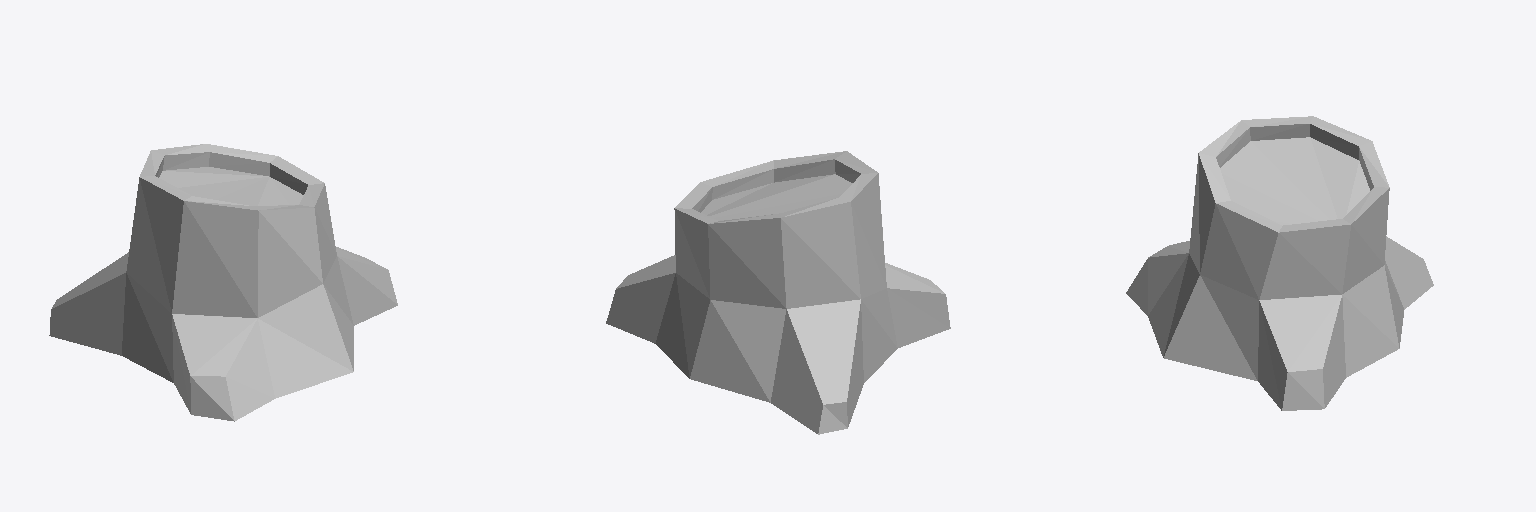
The model's file is stump5.obj.
3 renders of one model, left to right at view 1: azimuth 30°, elevation 25°; view 2: azimuth 150°, elevation 25°; view 3: azimuth 270°, elevation 25°, orthographic.
Visible parts, largest first — view 1: Stump2.001_Cylinder.063; view 2: Stump2.001_Cylinder.063; view 3: Stump2.001_Cylinder.063.
Part boxes in pixels (bbox=[...]): Stump2.001_Cylinder.063: bbox=[49, 144, 397, 421]; Stump2.001_Cylinder.063: bbox=[606, 151, 950, 434]; Stump2.001_Cylinder.063: bbox=[1126, 116, 1433, 410].
Bounding box in the file's own units: 1.65 × 1.01 × 1.54.